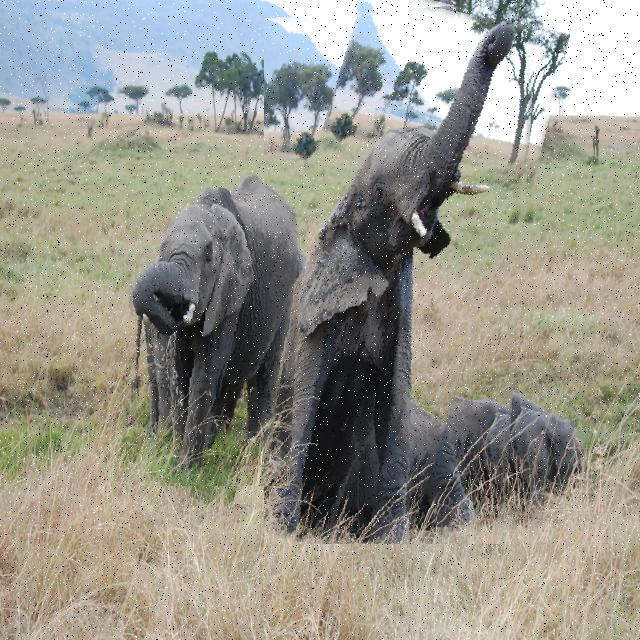elephant: (264, 0, 539, 544), (126, 160, 304, 486), (462, 372, 591, 521)
